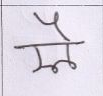au_matra: (53, 13, 78, 65)
